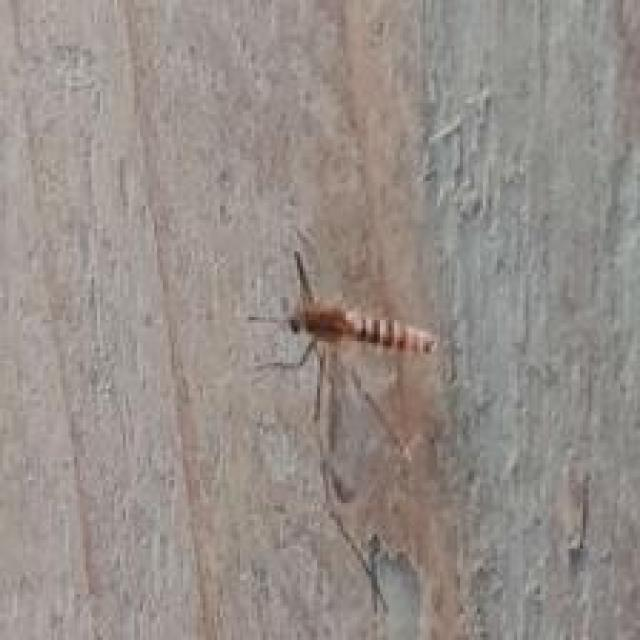Culex: (246, 249, 440, 617)
